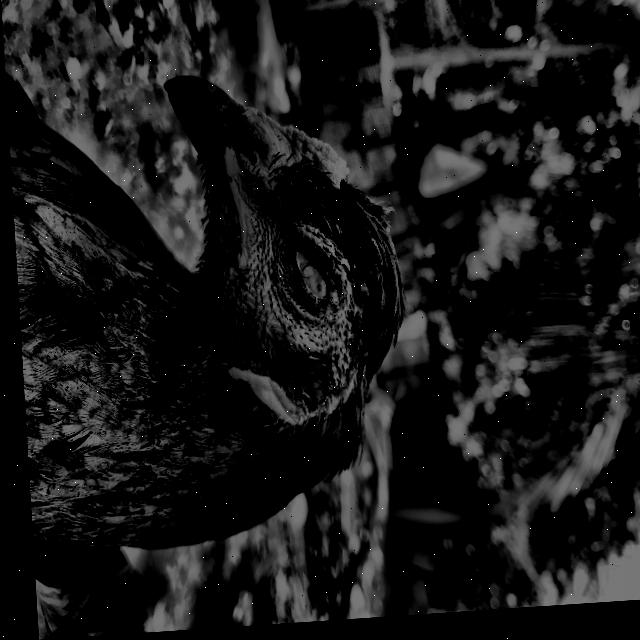Coryza: (1, 8, 445, 640)
